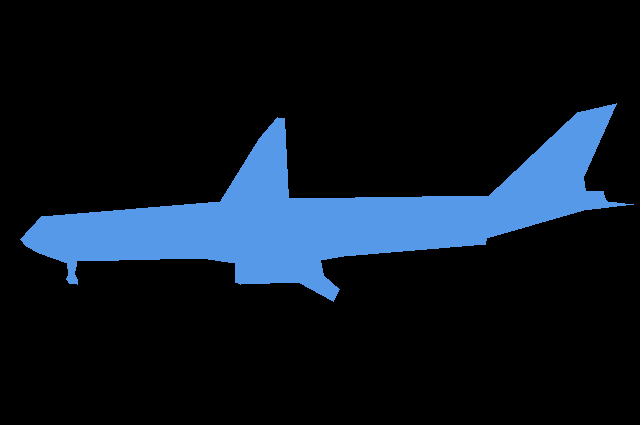Airplane: (20, 103, 634, 301)
